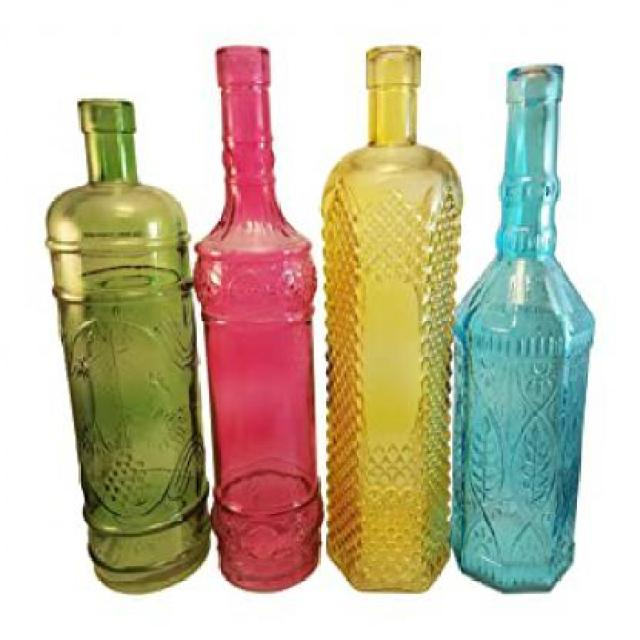Drinking: (168, 22, 328, 586), (456, 49, 602, 576)
